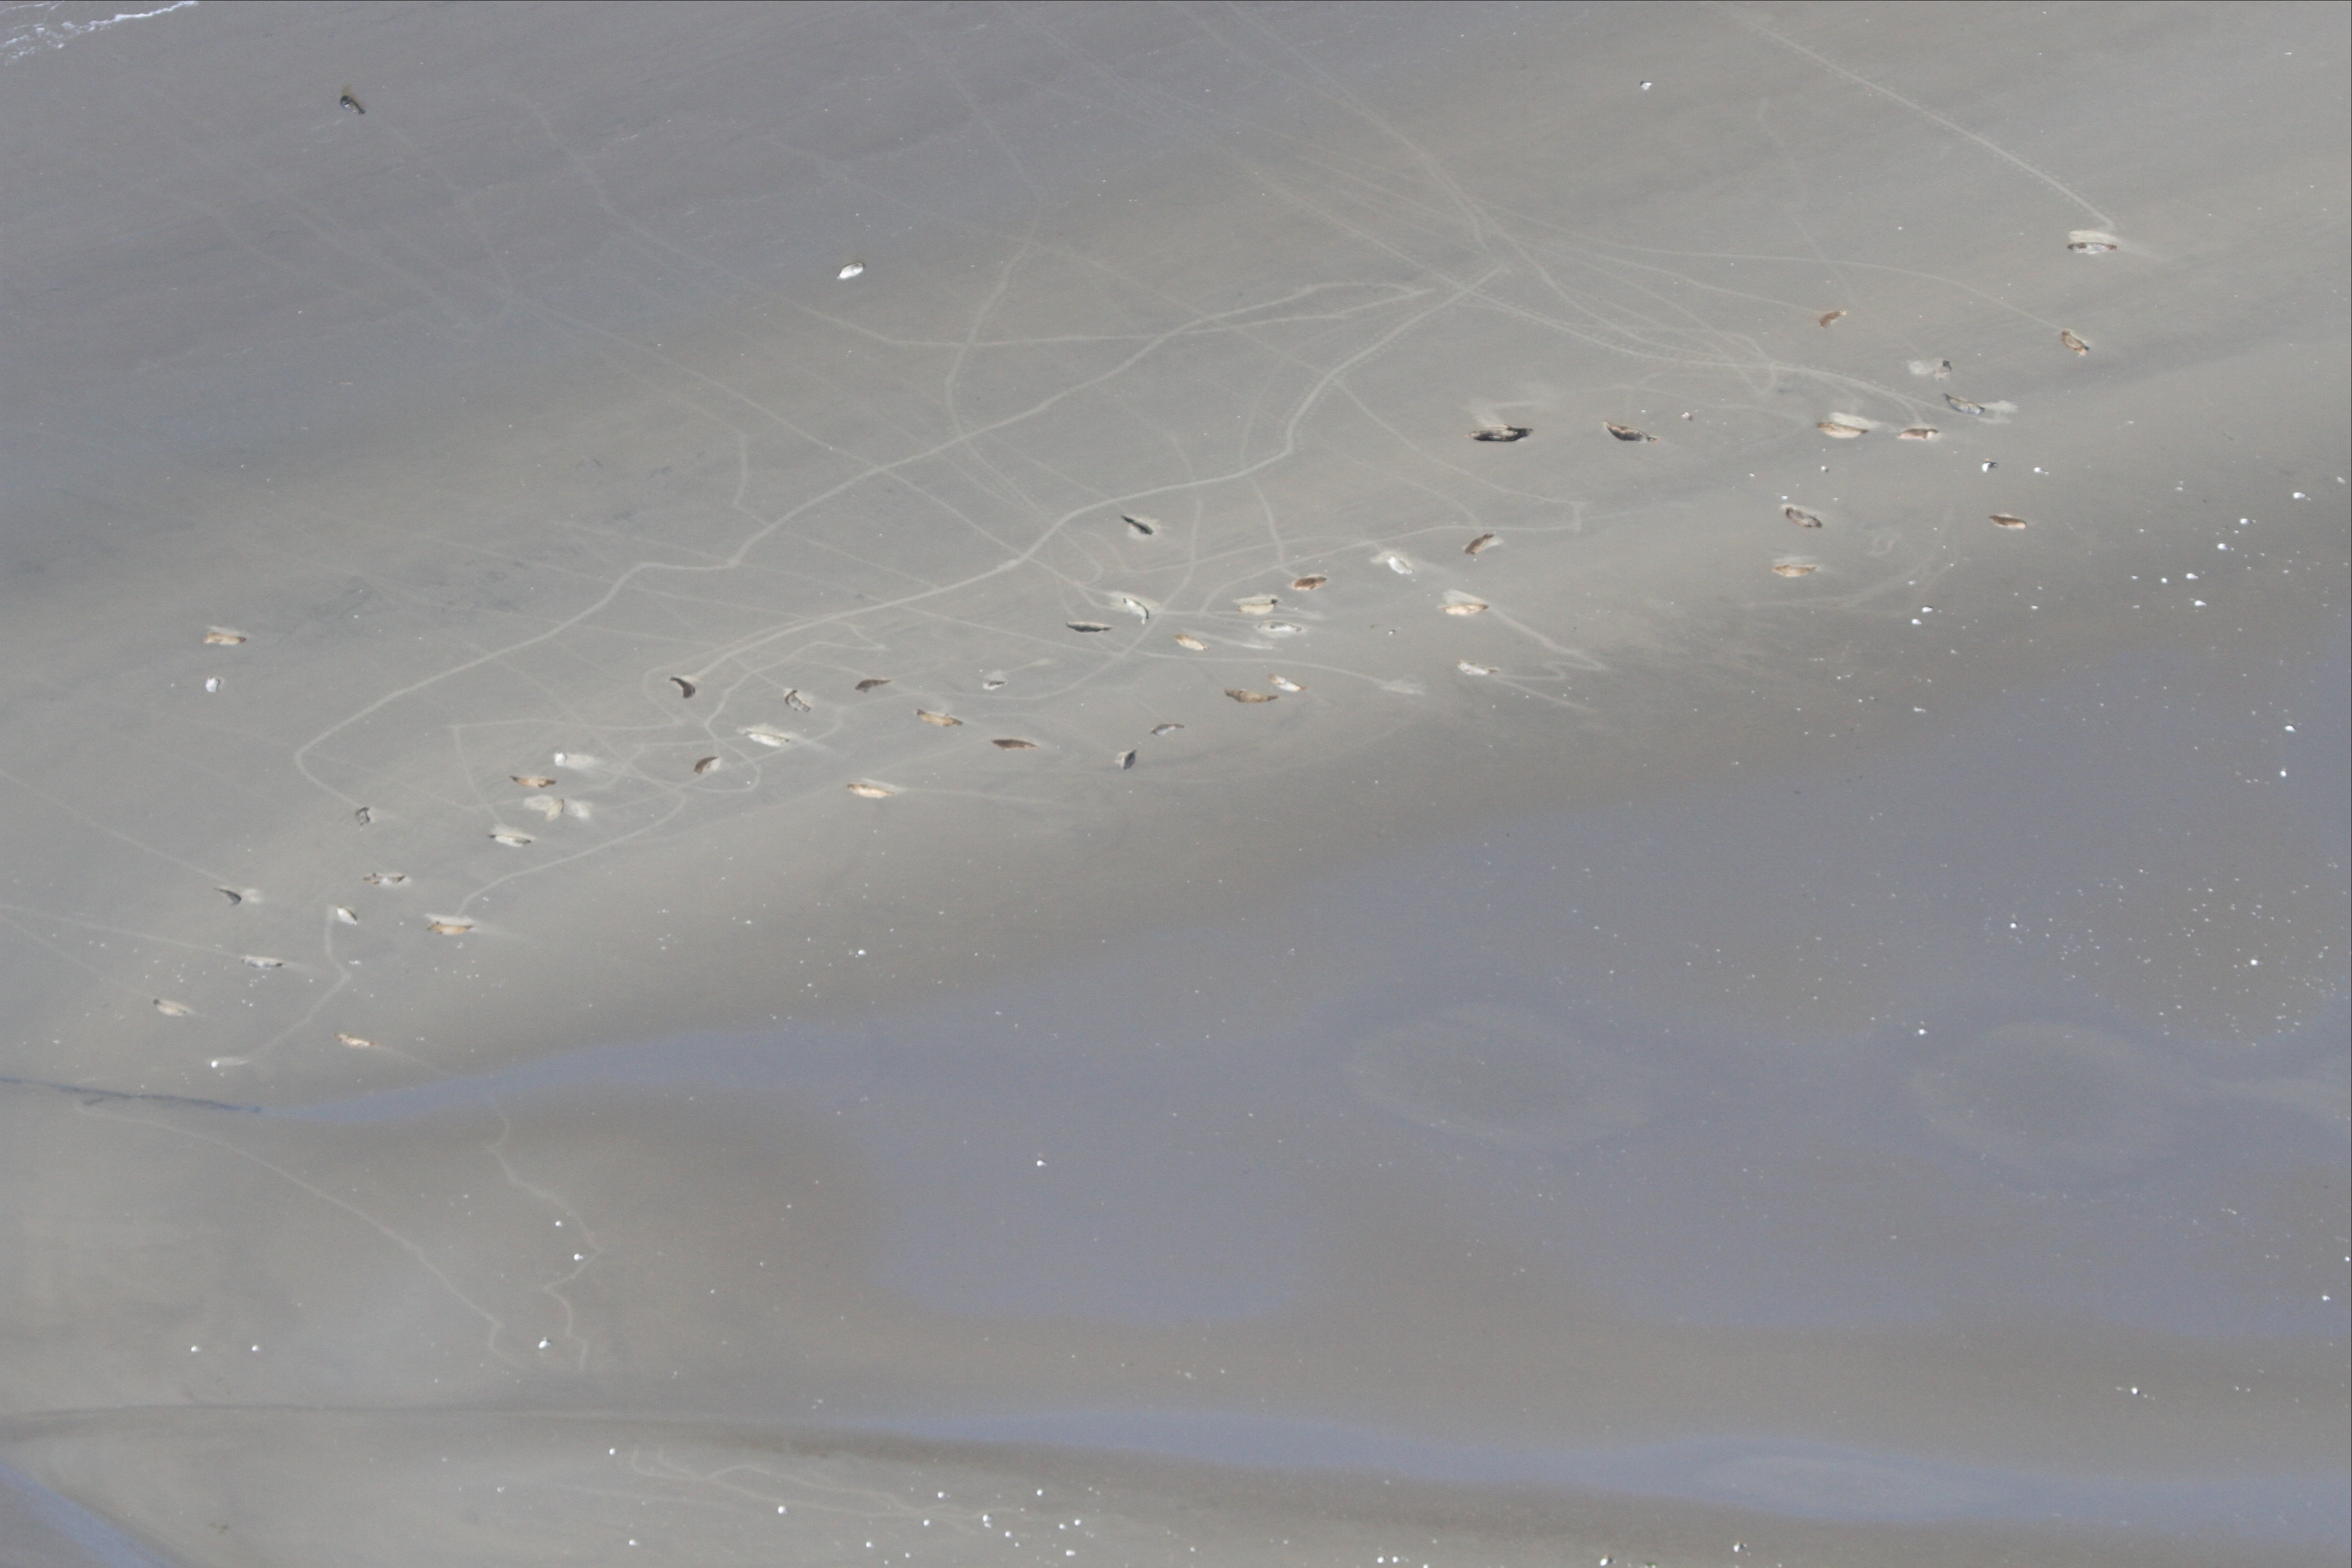robbe: (1603, 422, 1659, 446), (1466, 425, 1535, 445), (1941, 389, 1984, 416), (1144, 718, 1190, 744), (1815, 418, 1867, 441), (199, 626, 247, 649), (1223, 688, 1281, 705), (910, 709, 961, 728), (1267, 669, 1305, 693), (486, 831, 534, 851), (213, 884, 250, 908), (2060, 329, 2091, 357), (150, 997, 186, 1022), (847, 782, 891, 802), (689, 753, 726, 775), (1785, 506, 1822, 528), (427, 920, 473, 938), (1120, 516, 1155, 539), (336, 94, 366, 121), (747, 730, 788, 749), (240, 955, 289, 971), (1066, 621, 1115, 637), (1169, 632, 1206, 653), (1236, 598, 1279, 616), (1990, 513, 2028, 532), (2065, 240, 2117, 254), (350, 803, 374, 833), (989, 737, 1034, 753), (1438, 602, 1489, 616), (835, 262, 868, 283), (546, 794, 569, 824), (852, 677, 891, 695), (509, 777, 557, 791), (1463, 534, 1494, 555), (1897, 427, 1939, 443), (784, 688, 808, 714), (1125, 595, 1148, 623), (332, 1032, 373, 1048), (1291, 576, 1326, 593), (1773, 563, 1816, 577), (669, 675, 695, 698), (1815, 310, 1848, 327), (1460, 661, 1496, 677), (362, 875, 409, 886), (1256, 621, 1304, 632), (1388, 557, 1412, 576), (978, 677, 1006, 691), (336, 908, 357, 926), (1120, 751, 1138, 770)
